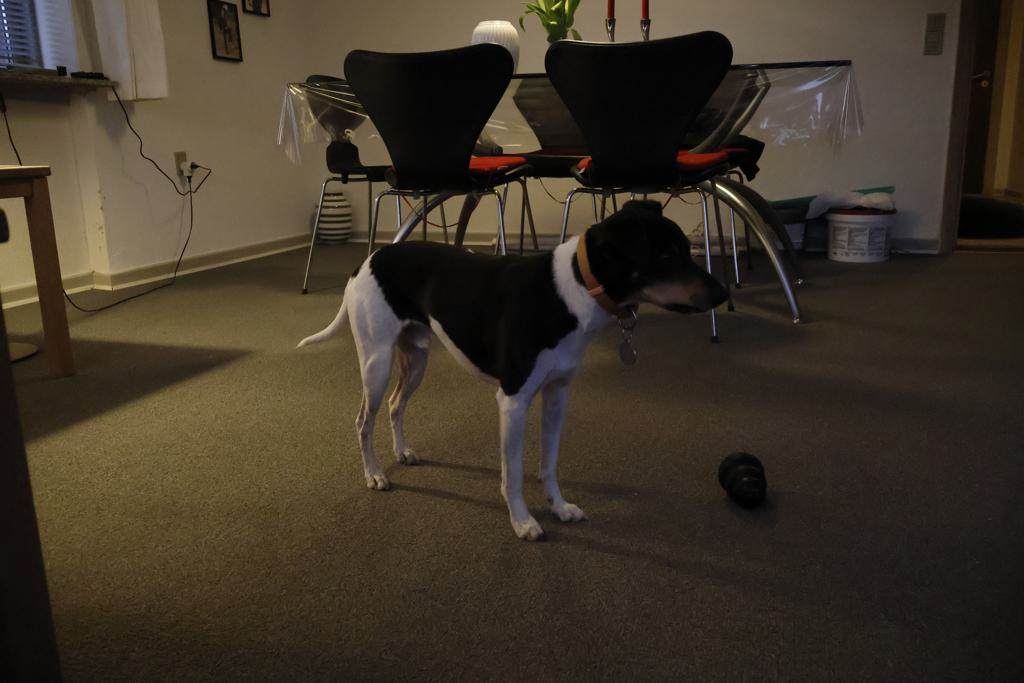Dog: (273, 181, 750, 551)
